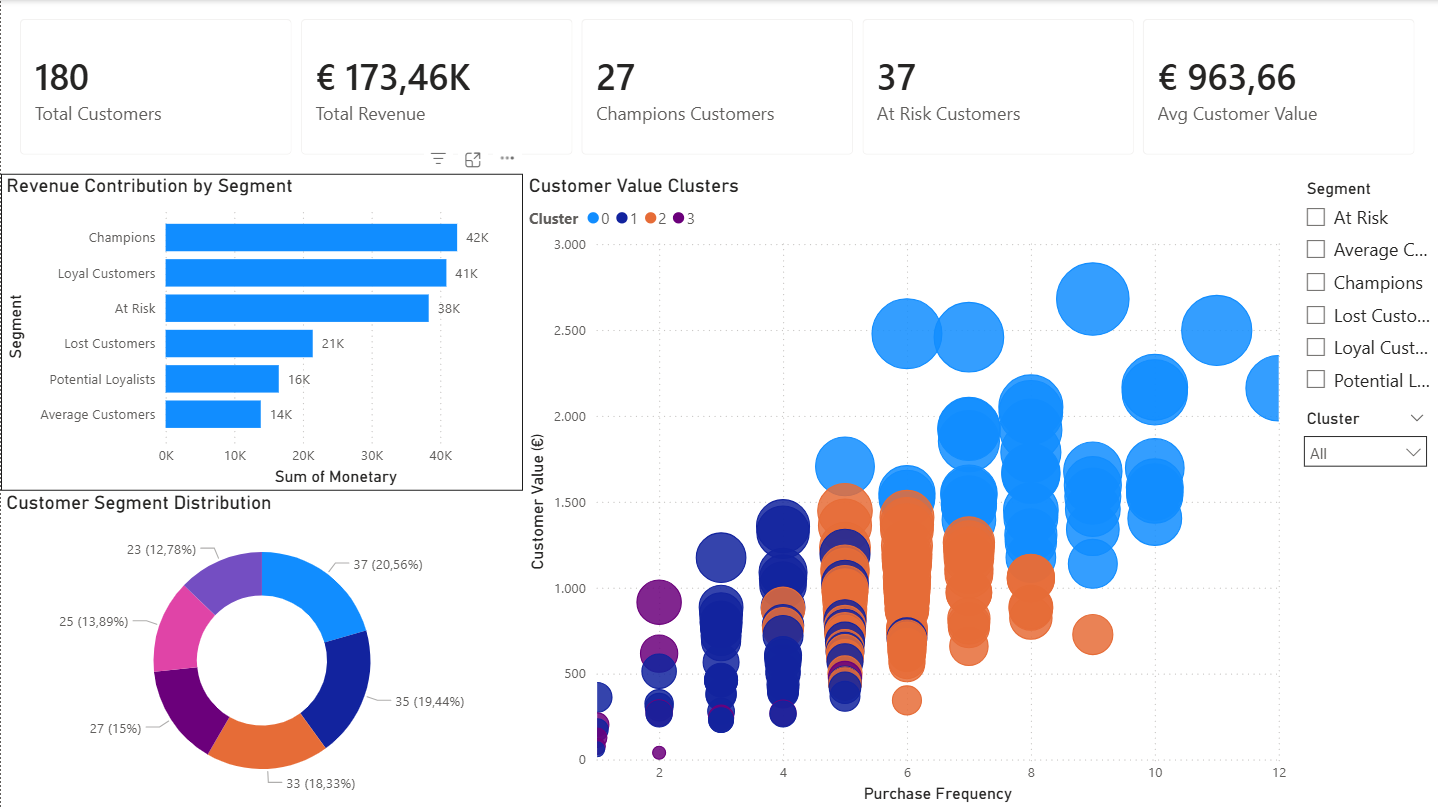

The page's visual inventory and layout, read from the dashboard file:
{"tool":"powerbi","page":{"name":"Page 1","canvas":[1280,720],"ordinal":0},"visuals":[{"type":"cardVisual","fields":{"Data":["Sheet1.Total Customers","Sheet1.Total Revenue","Sheet1.Champions Customers","Sheet1.At Risk Customers","Sheet1.Avg Customer Value"]},"box":[0,0,1280.3,155.1],"z":0},{"type":"clusteredBarChart","title":"Revenue Contribution by Segment","fields":{"Category":["Sheet1.Segment"],"Y":["Sum(Sheet1.Monetary)"]},"box":[0,155.1,465.2,282.7],"z":1000},{"type":"donutChart","title":"Customer Segment Distribution","fields":{"Category":["Sheet1.Segment"],"Y":["Sheet1.Customer Count"]},"box":[0,437.7,465.2,282.7],"z":2000},{"type":"scatterChart","title":"Customer Value Clusters","fields":{"X":["Sum(Sheet1.Frequency)"],"Y":["Sum(Sheet1.Monetary)"],"Series":["Sheet1.Cluster"],"Size":["Sum(Sheet1.Monetary)"],"Category":["Sheet1.Customer_ID"]},"box":[465.2,155.1,684.7,565.4],"z":3000},{"type":"slicer","fields":{"Values":["Sheet1.Segment"]},"box":[1149.9,155.1,130.4,204.5],"z":4000},{"type":"slicer","fields":{"Values":["Sheet1.Cluster"]},"box":[1149.9,359.5,130.4,78.2],"z":4001}]}

Visuals, with their boxes in screenshot pixels (x1, y1, x2, y2), scaled from the page's 1280x720 canvas onto the 1438x808 screenshot:
cardVisual - Sheet1.Total Customers x Sheet1.Total Revenue: 0,0,1437,174
"Revenue Contribution by Segment" clusteredBarChart: 0,174,523,491
"Customer Segment Distribution" donutChart: 0,491,523,807
"Customer Value Clusters" scatterChart: 523,174,1292,807
slicer - Sheet1.Segment: 1292,174,1437,404
slicer - Sheet1.Cluster: 1292,403,1437,491
